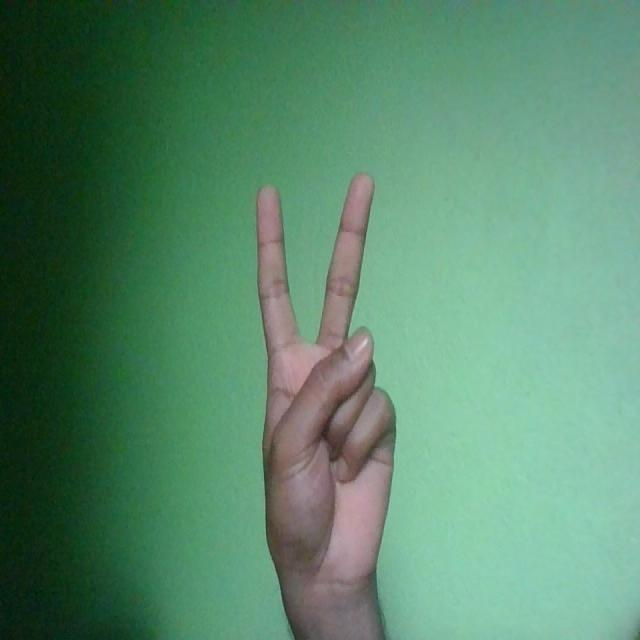Fist: (256, 171, 396, 600)
